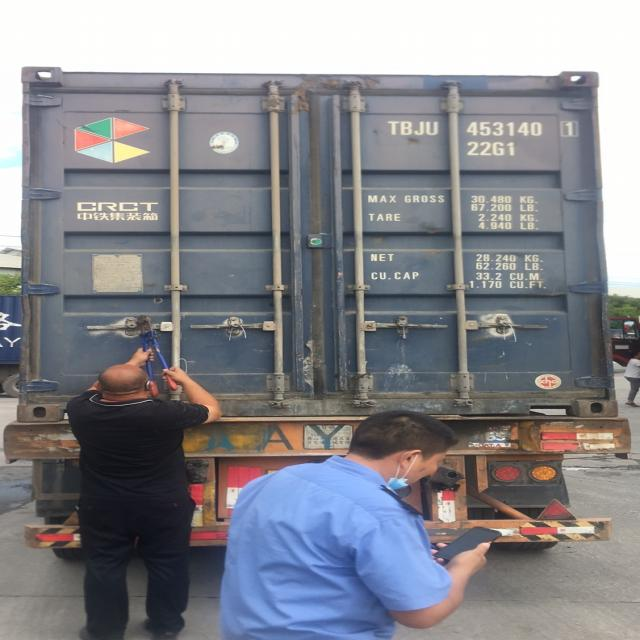seal: (390, 310, 415, 344)
